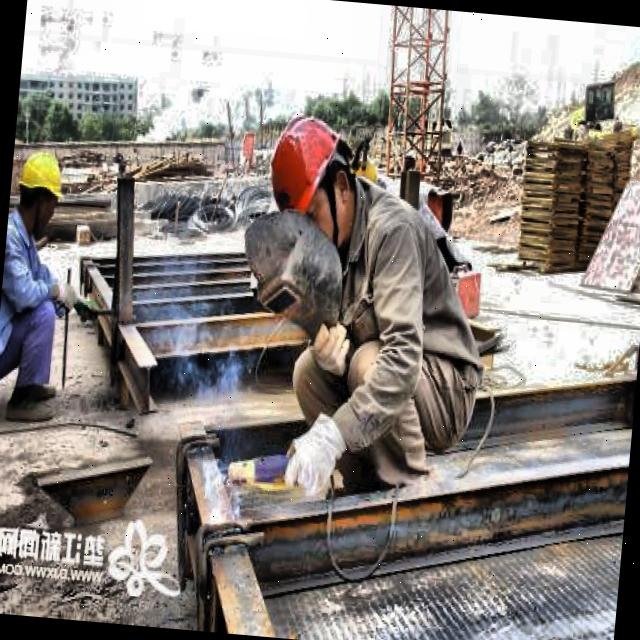helmet: (255, 104, 366, 241), (12, 138, 68, 240)
